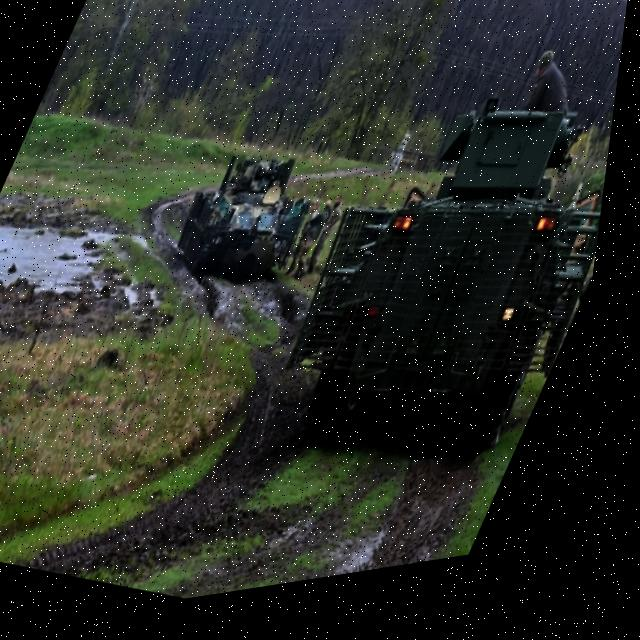MIL_APC: (260, 62, 626, 521), (168, 111, 359, 320)
